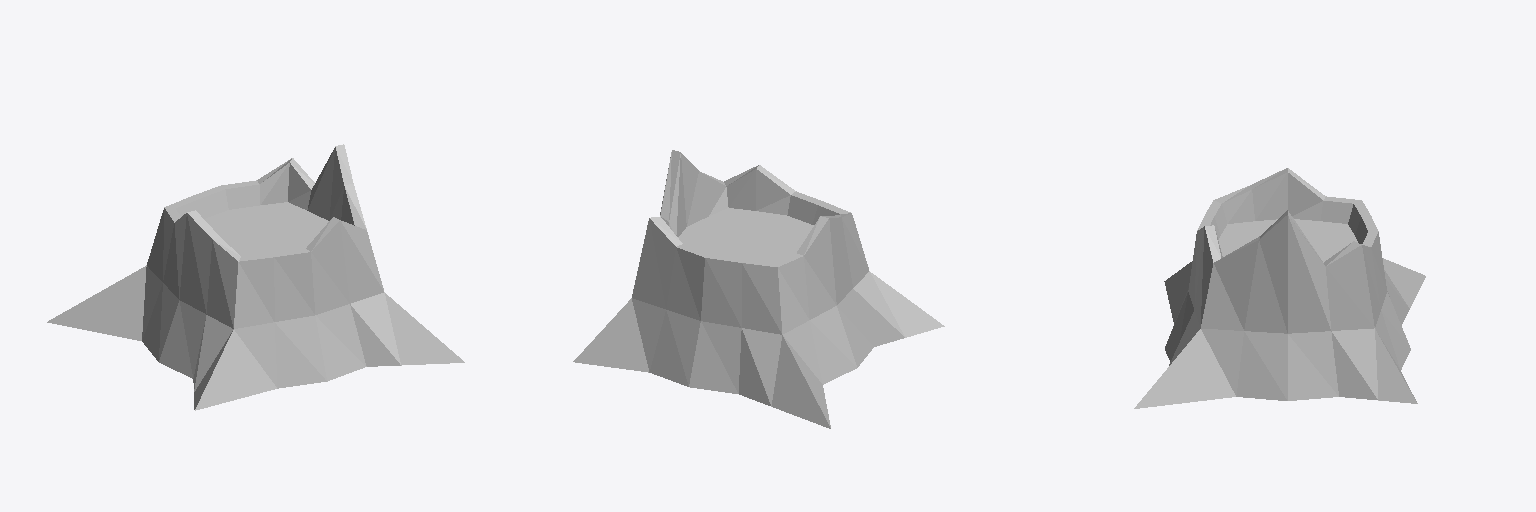
File: stump.obj
The picture shows the model from 3 angles: view 1: azimuth 30°, elevation 25°; view 2: azimuth 150°, elevation 25°; view 3: azimuth 270°, elevation 25°; orthographic projection.
Parts seen in each view (by area): view 1: stump_Cube.010; view 2: stump_Cube.010; view 3: stump_Cube.010.
Part boxes in pixels (x1,y1,x2,y2): stump_Cube.010: (47,144,464,410); stump_Cube.010: (573,150,944,428); stump_Cube.010: (1134,168,1425,408).
Size of the model in its own units: 0.0351 by 0.0212 by 0.0325.